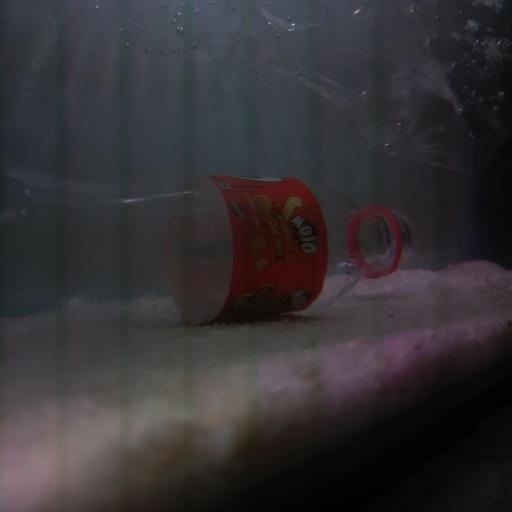plastic_bag: (78, 0, 512, 194)
plastic_bottle: (0, 177, 420, 328)
